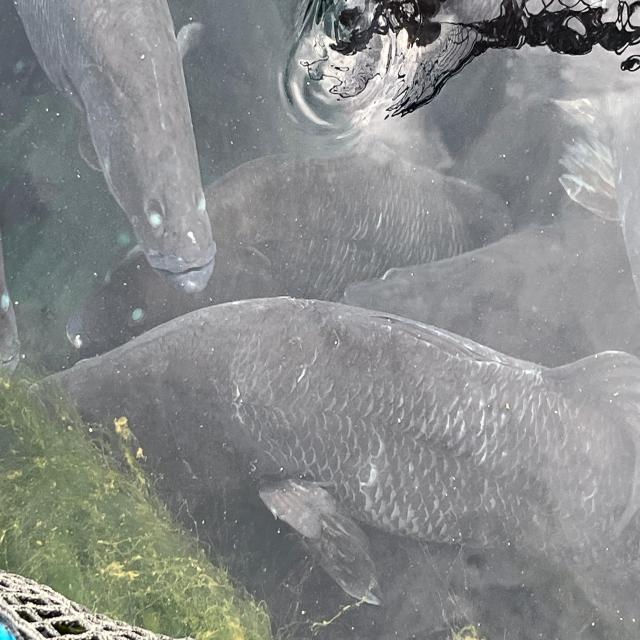ikan: (28, 293, 639, 635), (12, 0, 218, 294)
